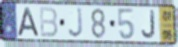5: (117, 8, 136, 41)
8: (89, 7, 107, 40)
A: (17, 7, 41, 37)
B: (38, 6, 59, 39)
J: (67, 7, 85, 40), (141, 10, 157, 40)
